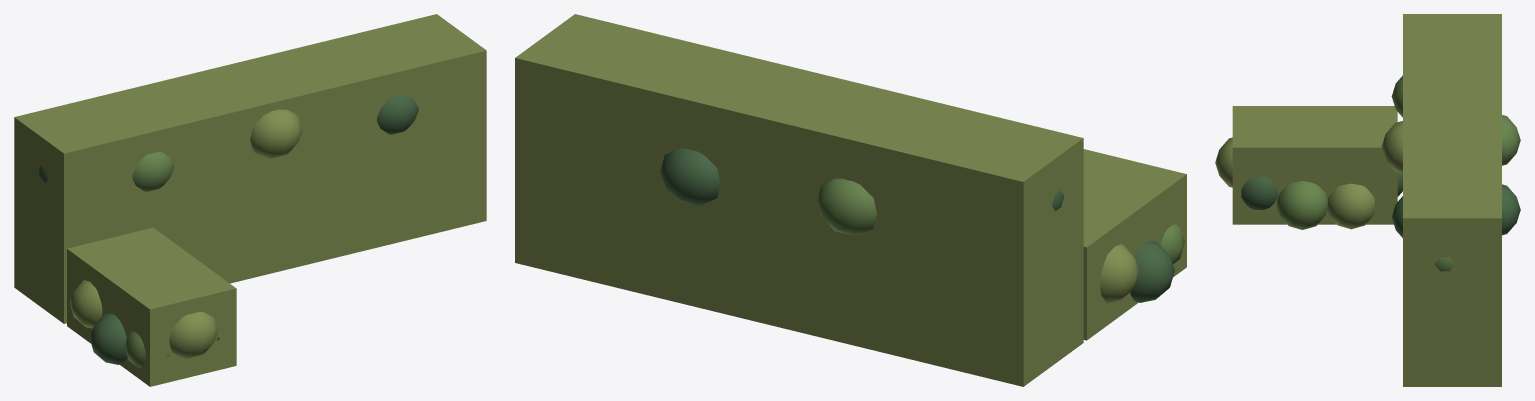
The picture shows the model from 3 angles, left to right: view 1: azimuth 30°, elevation 25°; view 2: azimuth 150°, elevation 25°; view 3: azimuth 270°, elevation 25°; orthographic projection. The views are drawn at different scales.
Visible parts, largest first — view 1: climb-hedge-2-0, climb-hedge-2-1, 생울타리 03; view 2: climb-hedge-2-0, climb-hedge-2-1, 생울타리 03; view 3: climb-hedge-2-0, climb-hedge-2-1, 생울타리 03.
Boxes of the visible parts, <box> form: climb-hedge-2-0: <box>14,14,486,323</box>; climb-hedge-2-1: <box>67,227,236,386</box>; 생울타리 03: <box>38,94,418,367</box>; climb-hedge-2-0: <box>515,14,1083,386</box>; climb-hedge-2-1: <box>1083,149,1186,340</box>; 생울타리 03: <box>660,148,1184,303</box>; climb-hedge-2-0: <box>1403,14,1501,386</box>; climb-hedge-2-1: <box>1232,106,1397,224</box>; 생울타리 03: <box>1215,75,1520,271</box>.
Size of the model in its own units: 4.66 by 1.76 by 2.78.
